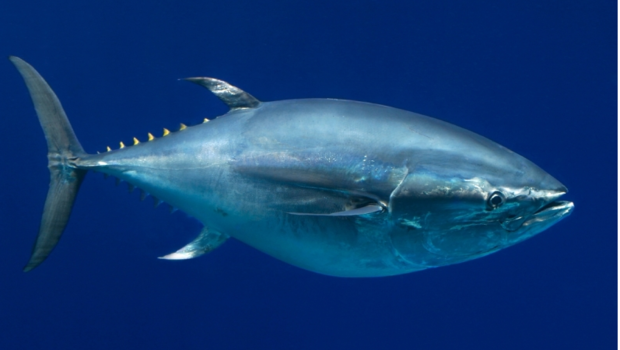Bluefina Tuna: (6, 38, 577, 298)
